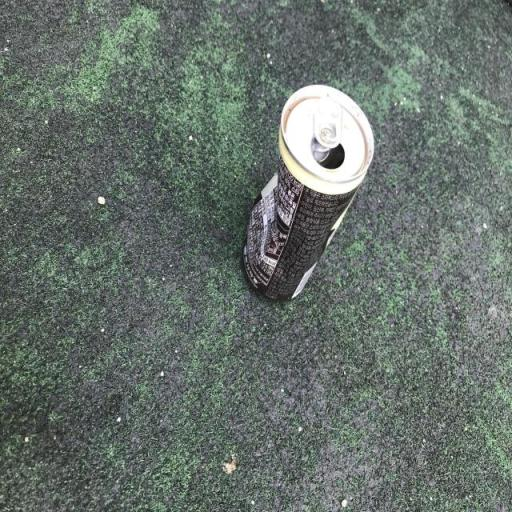metal: (203, 64, 391, 330)
